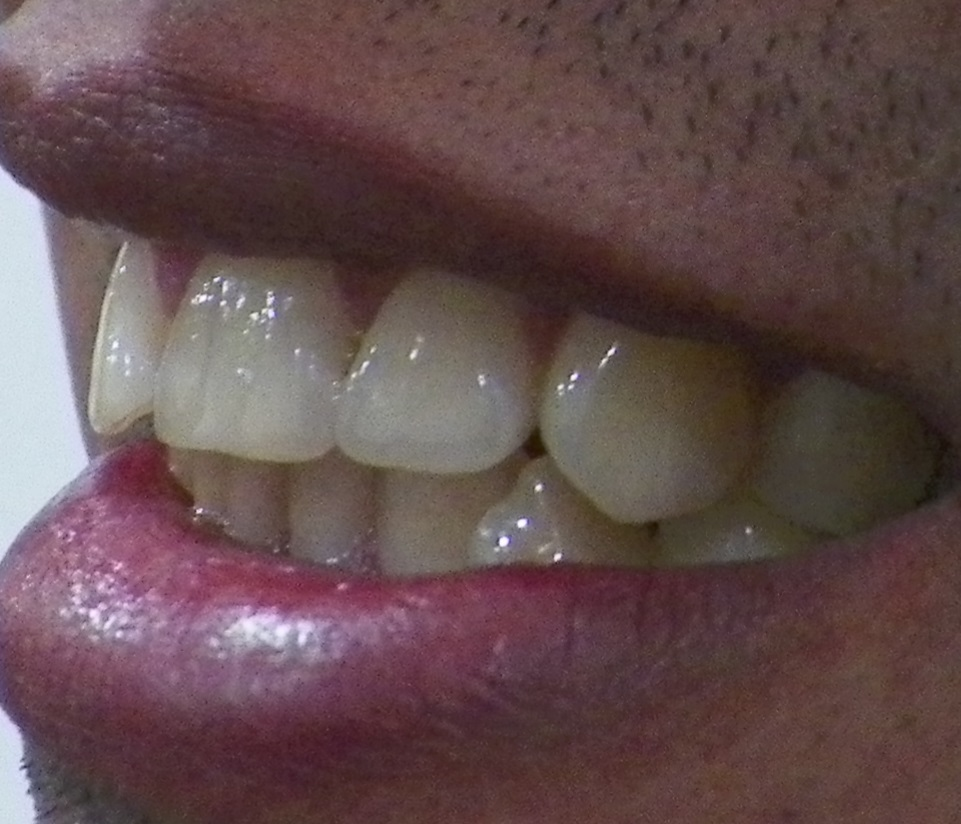boca: (85, 221, 914, 578)
